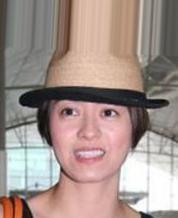face: (61, 104, 122, 164)
